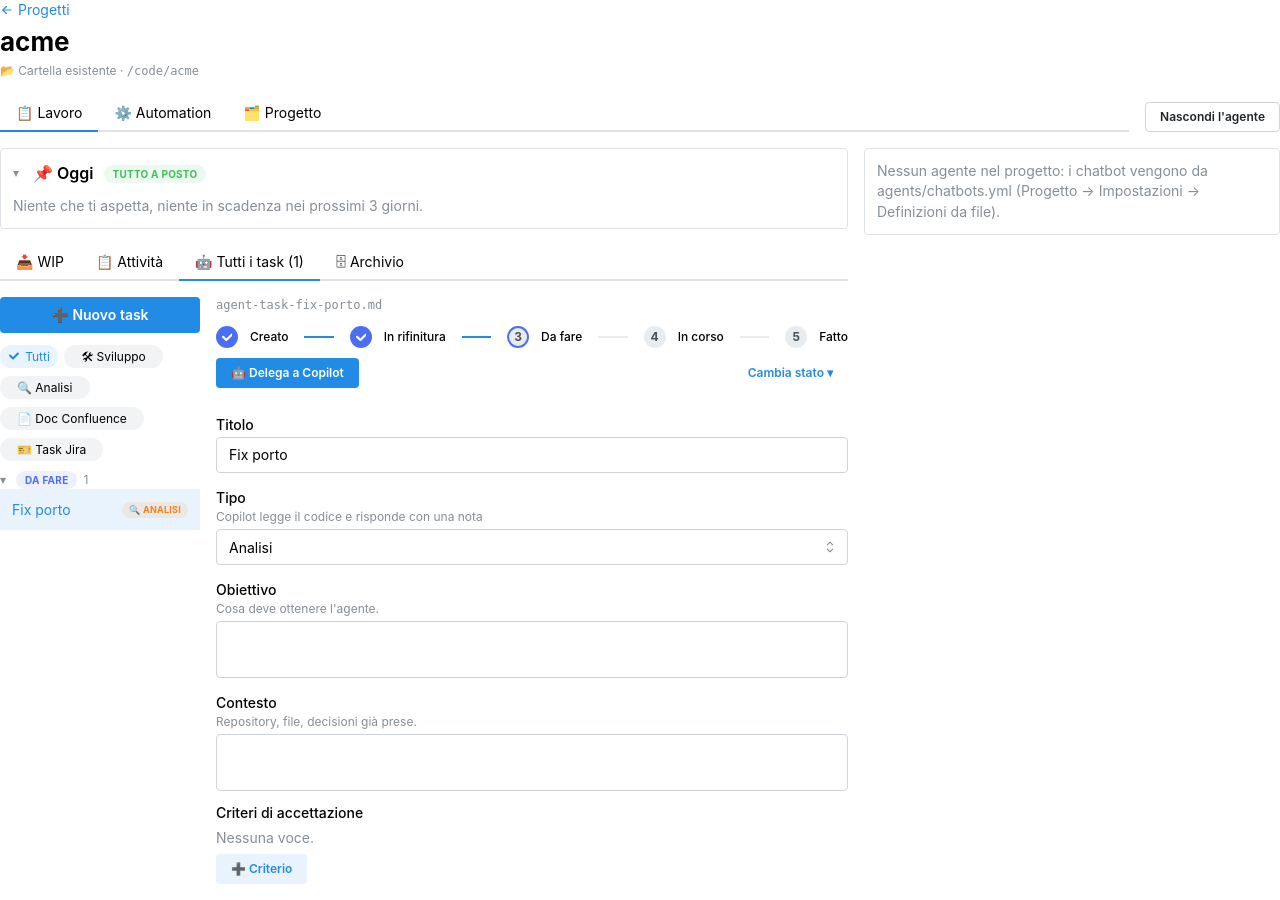
Scenario: Copilot › proposes the prompt of the task's type
The width and height of the screenshot is (1280, 900).
What coordinates should you click on to do the following:
click the button "🤖 Delega a Copilot"
I would click on:
 (287, 373)
Its box is [216,358,359,388].
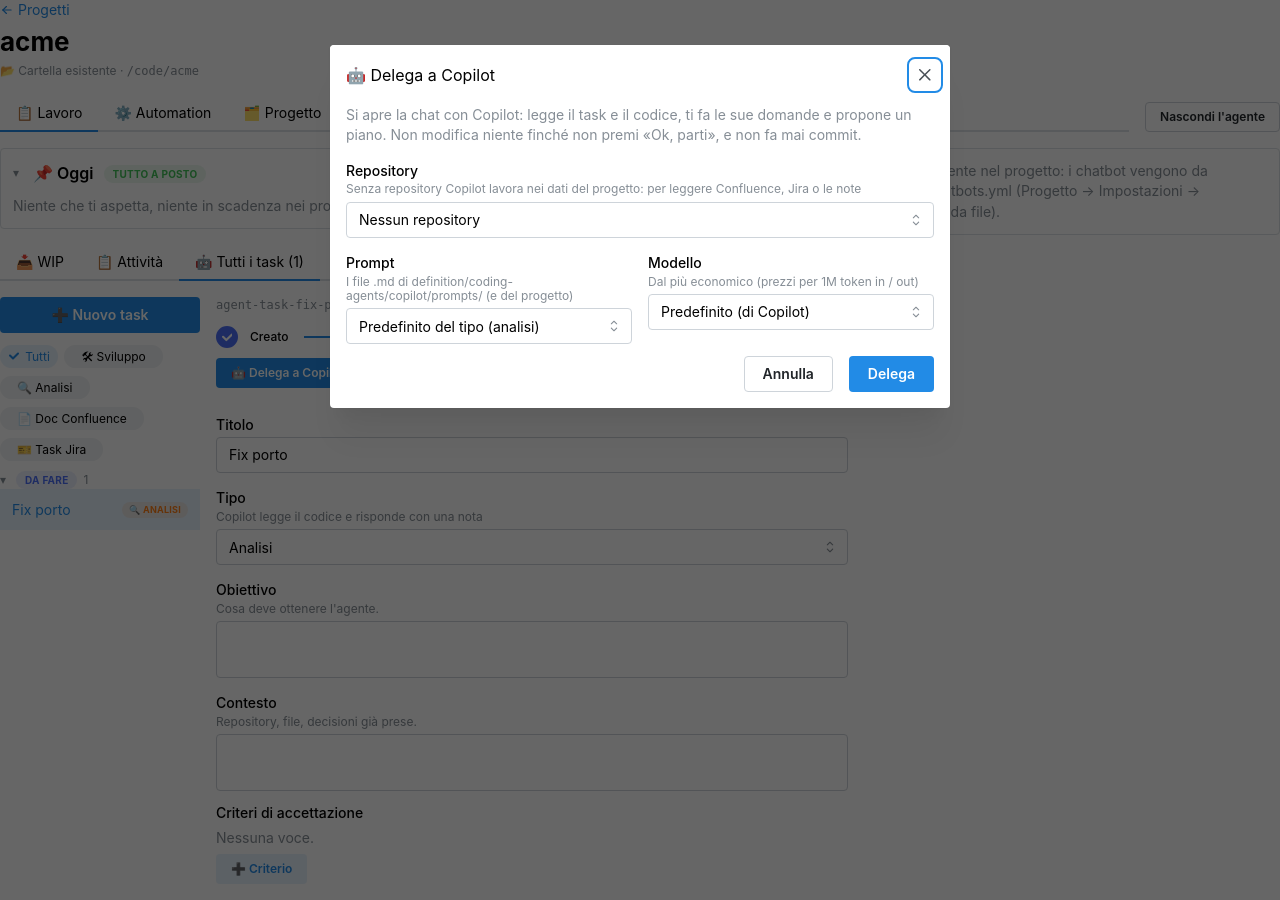
Check: the field showing "Predefinito del tipo (analisi)" is shown, box [346,308,632,344]
